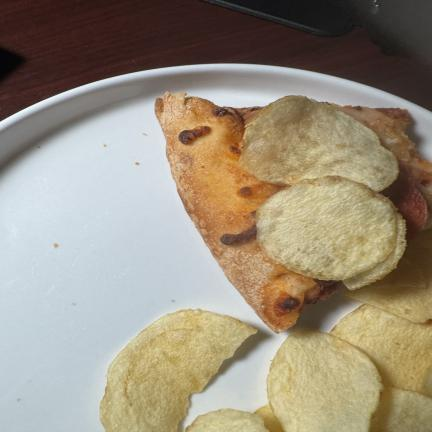chips: (101, 310, 256, 431), (257, 176, 404, 280), (240, 96, 398, 190), (267, 331, 381, 431), (331, 305, 431, 393), (346, 251, 431, 322), (343, 213, 406, 290), (371, 387, 431, 431), (185, 409, 268, 431), (255, 404, 283, 431)
pizza: (155, 93, 340, 332)
plate: (0, 65, 431, 431)
